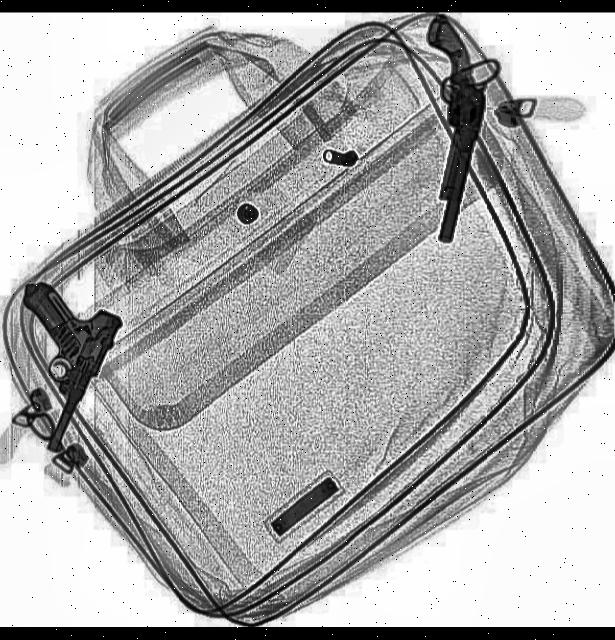Gun: (380, 12, 504, 242), (0, 281, 116, 439)
